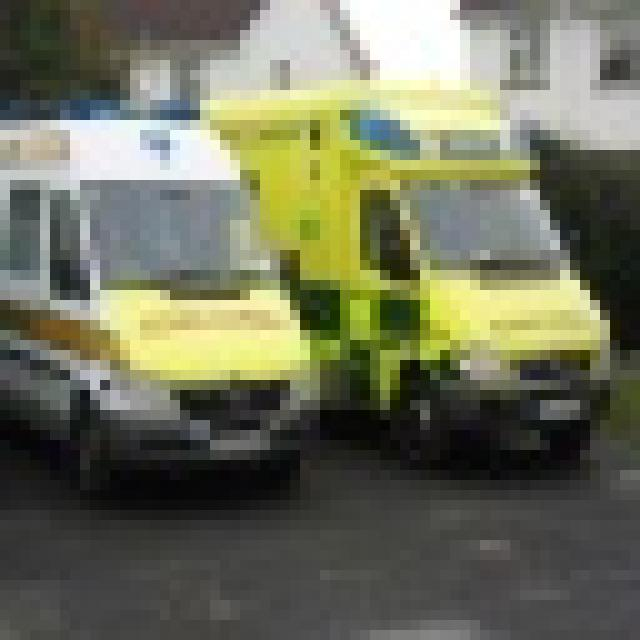Ambulance: (200, 70, 610, 470), (0, 110, 320, 490)
